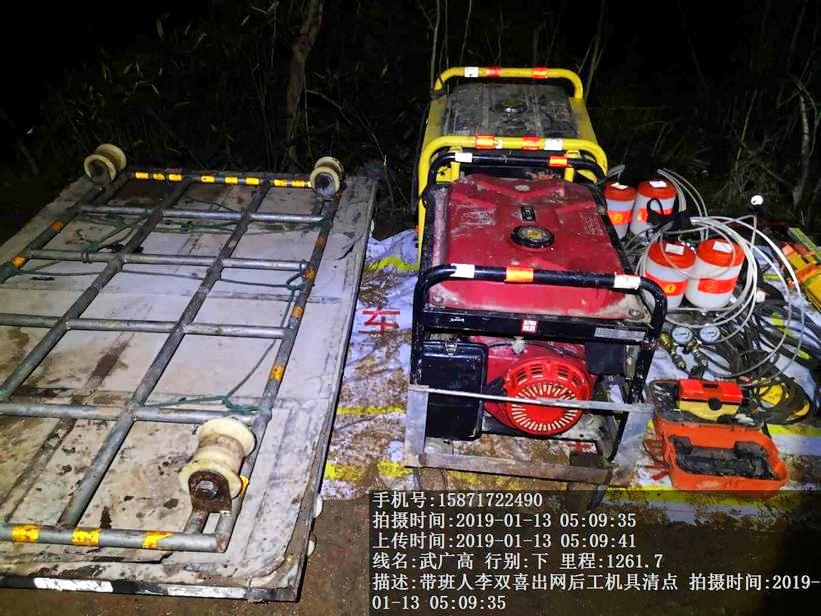DJ: (416, 169, 643, 487), (404, 48, 611, 171)
